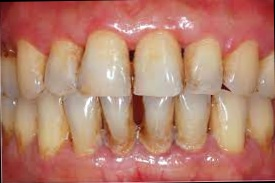Tooth Discoloration: (60, 62, 221, 156)
